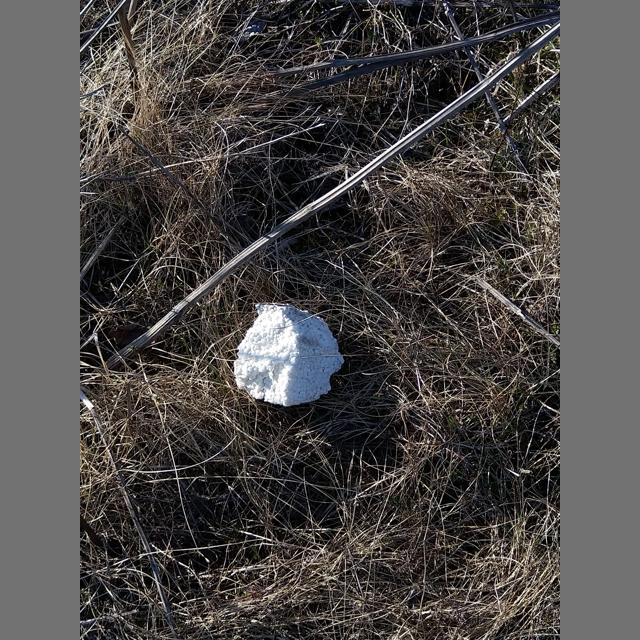litter: (234, 303, 344, 406)
